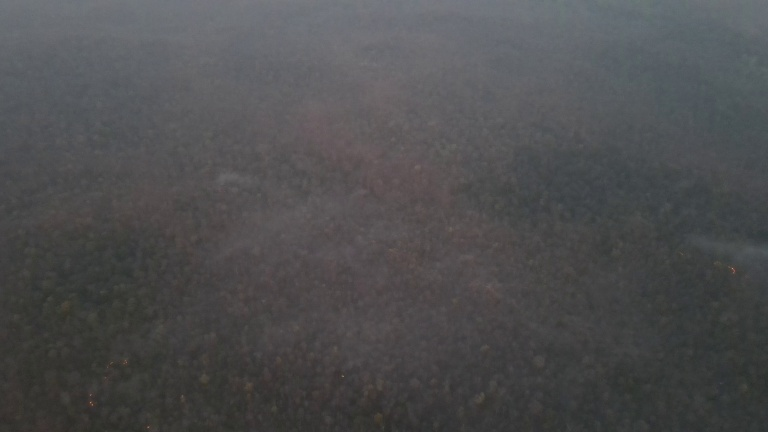fire: (83, 354, 135, 408), (713, 257, 738, 279)
smoke: (682, 225, 768, 270), (203, 164, 256, 194)
